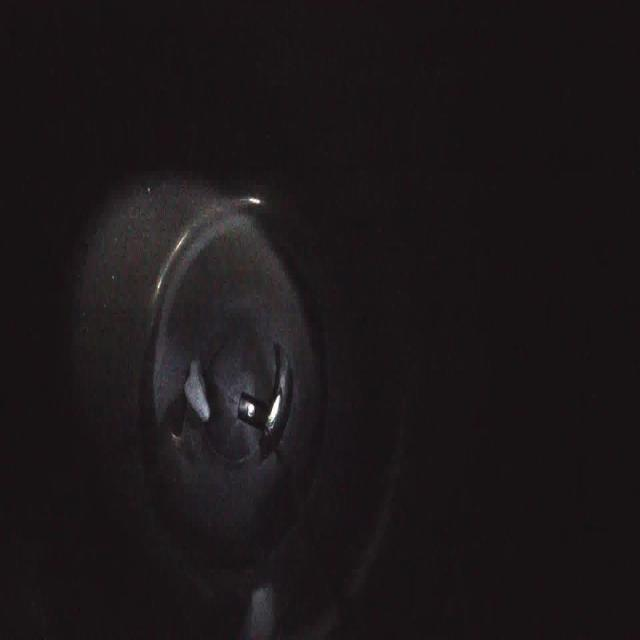impurity: (182, 347, 216, 425)
